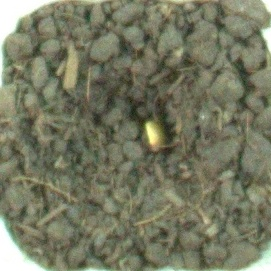pepper seed: (55, 41, 229, 197)
